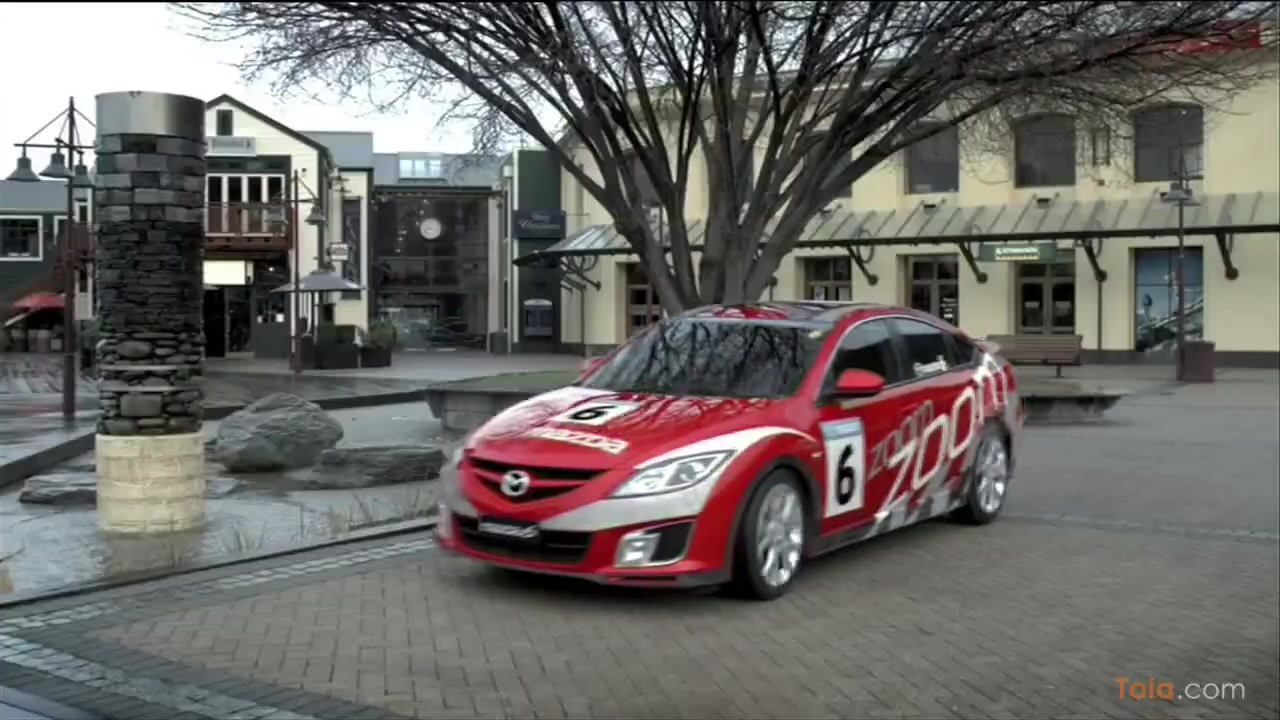car: (434, 299, 1032, 607)
